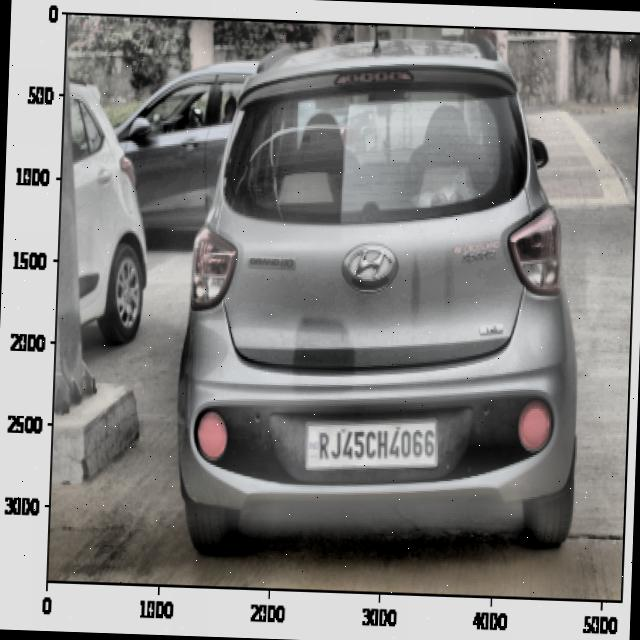license_plate: (310, 416, 440, 468)
